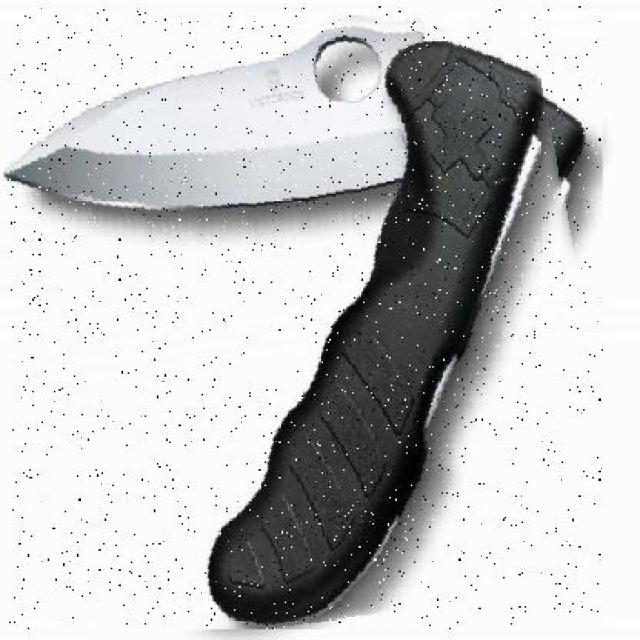knife: (9, 6, 603, 629)
